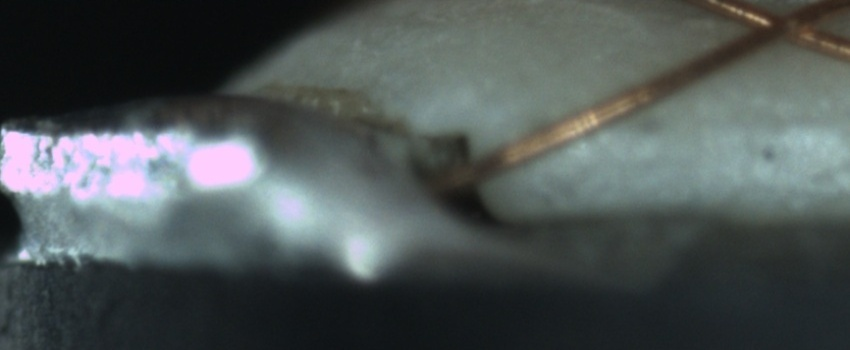CL: (713, 3, 837, 55)
DL: (623, 89, 849, 161)
